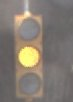Yellow: (7, 8, 56, 100)
